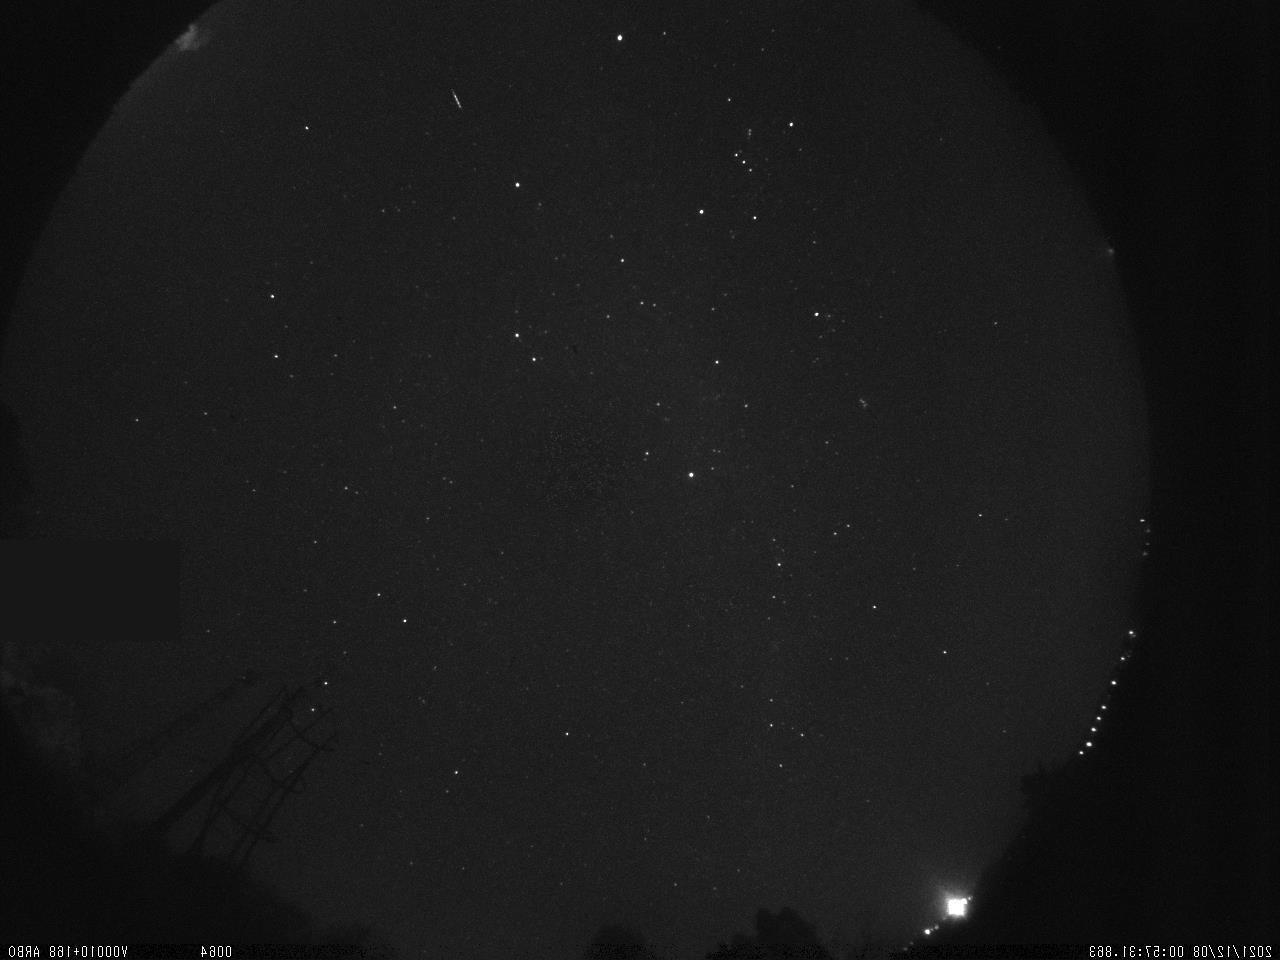meteor: (435, 81, 471, 113)
